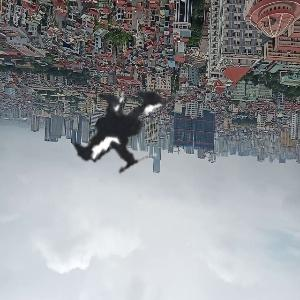drone: (5, 4, 297, 296)
